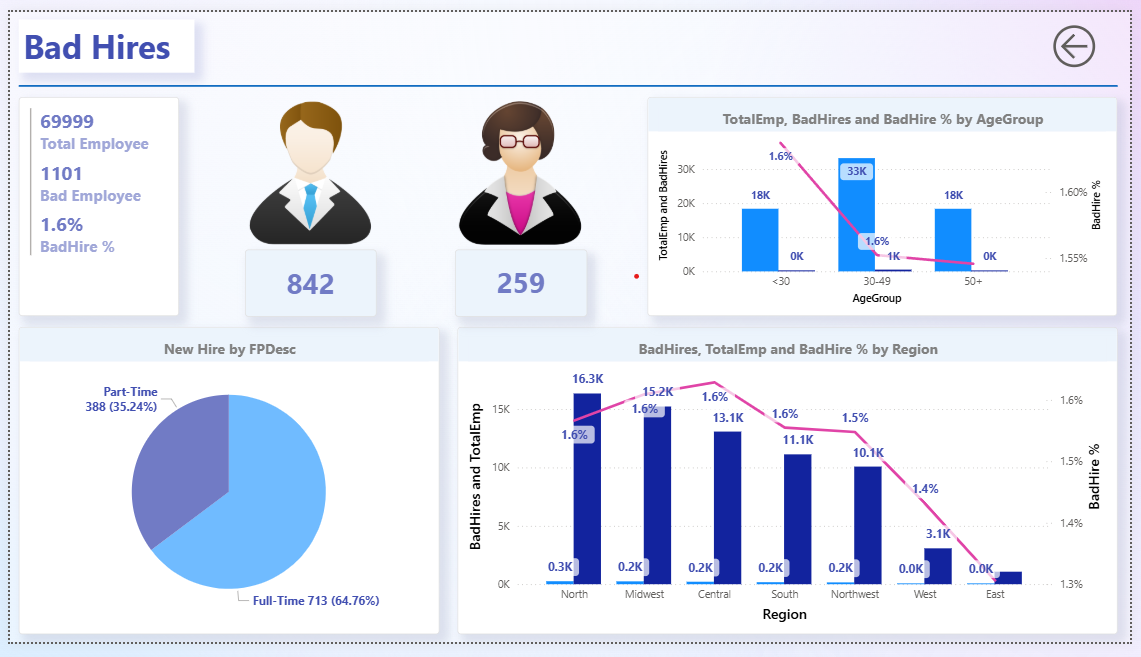

The dashboard page shown, as its layout file describes it:
{"tool":"powerbi","page":{"name":"Bad Hires","canvas":[1280,720],"ordinal":3},"visuals":[{"type":"textbox","box":[9.8,8.6,200.5,61.1],"z":0},{"type":"shape","box":[9.8,59.9,1255.8,48.9],"z":1000},{"type":"actionButton","box":[1186.1,8.6,79.5,61.1],"z":2000},{"type":"multiRowCard","fields":{"Values":["All_Measure.TotalEmp","All_Measure.BadHires","All_Measure.BadHire %"]},"box":[9.8,97.8,183.4,250.7],"z":3000},{"type":"pieChart","title":"New Hire by FPDesc","fields":{"Category":["JobType.FPDesc"],"Y":["All_Measure.BadHires"]},"box":[9.8,359.5,480.6,351],"z":4000},{"type":"lineClusteredColumnComboChart","fields":{"Category":["RegionMapping.Region"],"Y":["All_Measure.BadHires","All_Measure.TotalEmp"],"Y2":["All_Measure.BadHire %"]},"box":[511.1,359.5,754.5,351],"z":5000},{"type":"lineClusteredColumnComboChart","fields":{"Category":["AgeGroup.AgeGroup"],"Y":["All_Measure.TotalEmp","All_Measure.BadHires"],"Y2":["All_Measure.BadHire %"]},"box":[728.8,97.8,536.8,250.7],"z":6000},{"type":"image","box":[250.7,97.8,187.1,173.6],"z":7000},{"type":"image","box":[490.4,97.8,187.1,173.6],"z":8000},{"type":"card","fields":{"Values":["All_Measure.BadHires"]},"box":[269,271.5,150.4,77],"z":9000},{"type":"card","fields":{"Values":["All_Measure.BadHires"]},"box":[509.1,271.7,150.9,76.8],"z":10000}]}

Visuals, with their boxes in screenshot pixels (x1, y1, x2, y2), scaled from the page's 1280x720 canvas onto the 1141x657 screenshot:
textbox: 9, 8, 187, 64
shape: 9, 55, 1128, 99
actionButton: 1057, 8, 1128, 64
multiRowCard - All_Measure.TotalEmp x All_Measure.BadHires: 9, 89, 172, 318
"New Hire by FPDesc" pieChart: 9, 328, 437, 648
lineClusteredColumnComboChart - RegionMapping.Region x All_Measure.BadHires: 456, 328, 1128, 648
lineClusteredColumnComboChart - AgeGroup.AgeGroup x All_Measure.TotalEmp: 650, 89, 1128, 318
image: 223, 89, 390, 248
image: 437, 89, 604, 248
card - All_Measure.BadHires: 240, 248, 374, 318
card - All_Measure.BadHires: 454, 248, 588, 318
